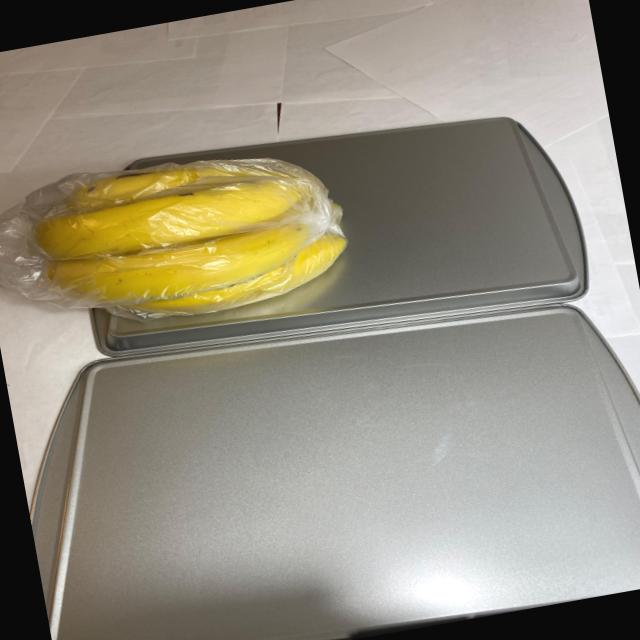banana: (17, 138, 364, 350)
